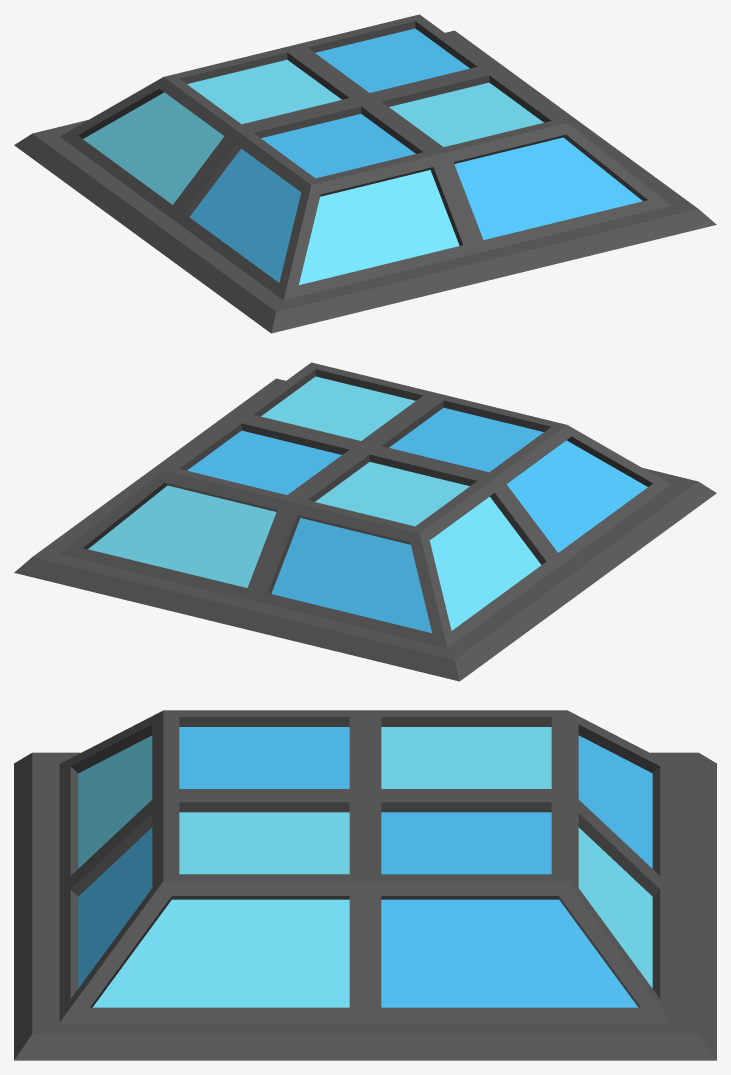
File: Prop_RoofWindow_07.fbx
The picture shows the model from 3 angles, top to bottom: view 1: azimuth 30°, elevation 25°; view 2: azimuth 150°, elevation 25°; view 3: azimuth 270°, elevation 25°; orthographic projection. The views are drawn at different scales.
Visible parts, largest first — view 1: Prop_RoofWindow_07; view 2: Prop_RoofWindow_07; view 3: Prop_RoofWindow_07.
Boxes of the visible parts, bbox=[...] form: Prop_RoofWindow_07: bbox=[14, 14, 716, 333]; Prop_RoofWindow_07: bbox=[14, 362, 716, 681]; Prop_RoofWindow_07: bbox=[14, 710, 716, 1060].
Bounding box in the file's own units: 200 × 36.53 × 200.
